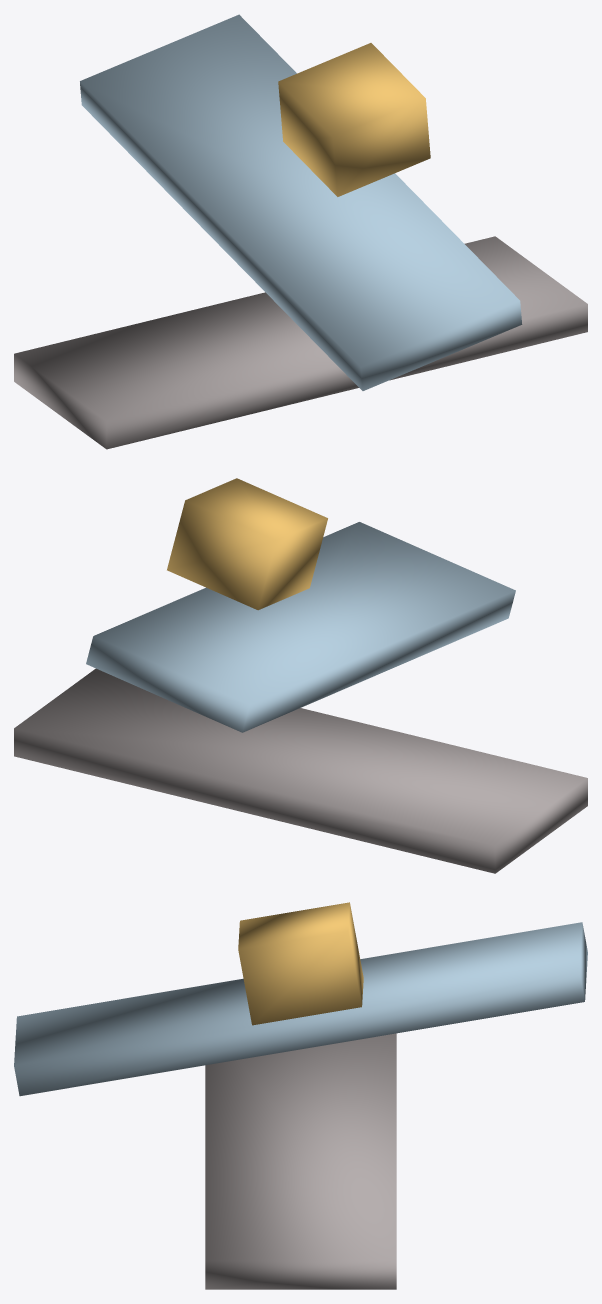
Rendered from inclined_plane.glb.
3 views of the same model, one above another, from view 1: azimuth 30°, elevation 25°; view 2: azimuth 150°, elevation 25°; view 3: azimuth 270°, elevation 25° (orthographic). The views are drawn at different scales.
Visible parts, largest first — view 1: ramp, base, block; view 2: base, ramp, block; view 3: base, ramp, block.
Part boxes in pixels (x1,y1,x2,y2): ramp: (80,14,522,390); base: (14,236,587,449); block: (278,43,430,196); base: (14,668,587,873); ramp: (86,522,515,732); block: (167,478,327,610); base: (205,1033,396,1289); ramp: (14,922,587,1096); block: (238,902,363,1025).
Bounding box in the file's own units: 1.8 × 0.9821 × 1.8.
